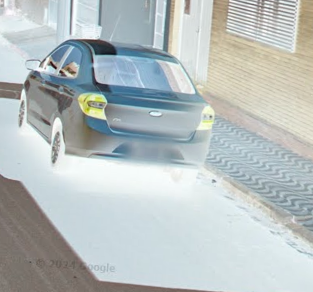car: (15, 12, 217, 189)
